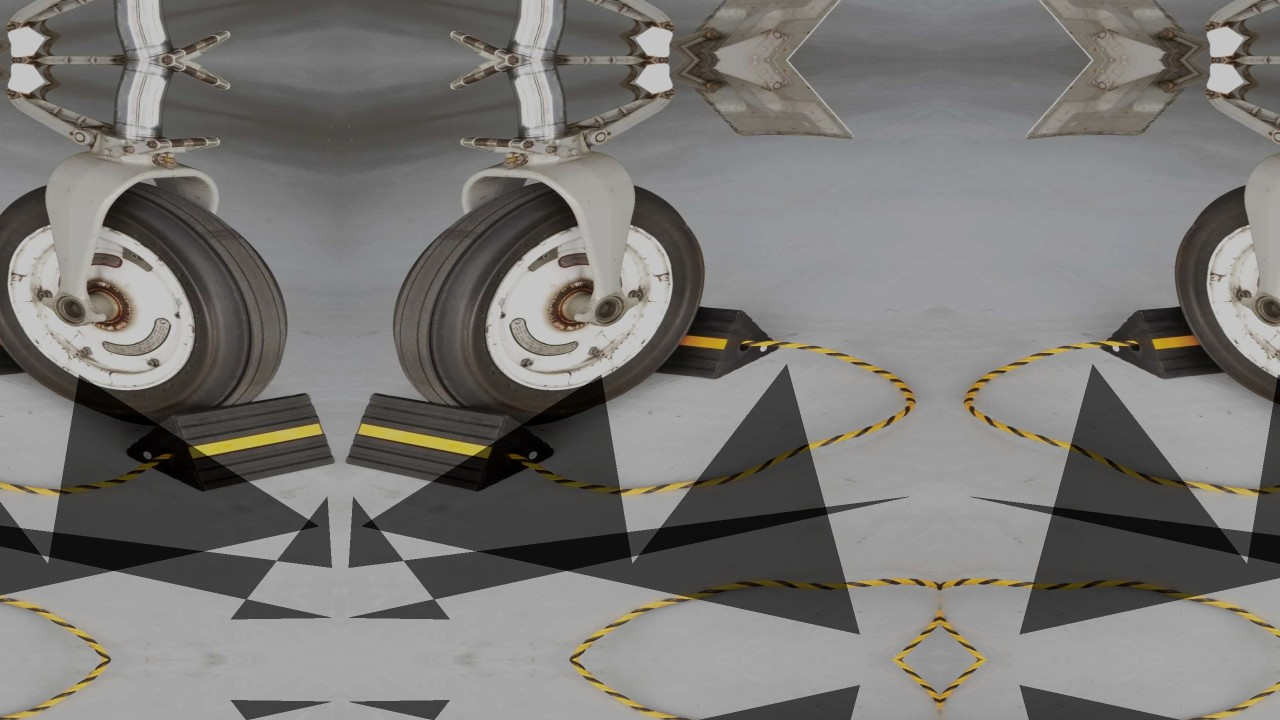chock: (115, 362, 340, 515), (340, 362, 565, 515), (561, 279, 784, 407), (1096, 279, 1280, 407), (0, 279, 119, 407)
wheel: (377, 158, 728, 443), (0, 158, 303, 443), (1152, 158, 1280, 443)
